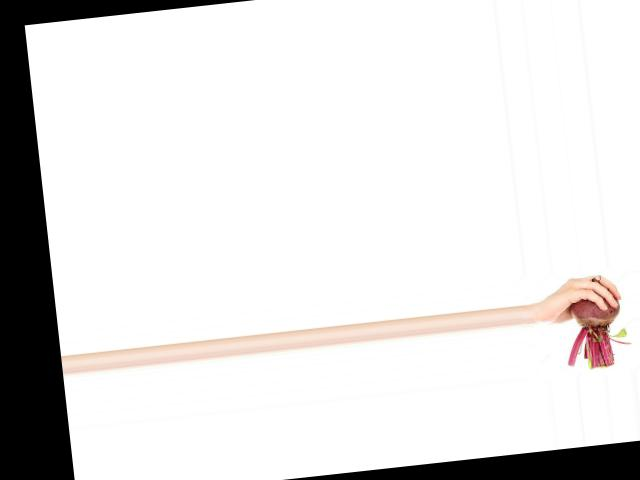beet: (558, 273, 633, 371)
